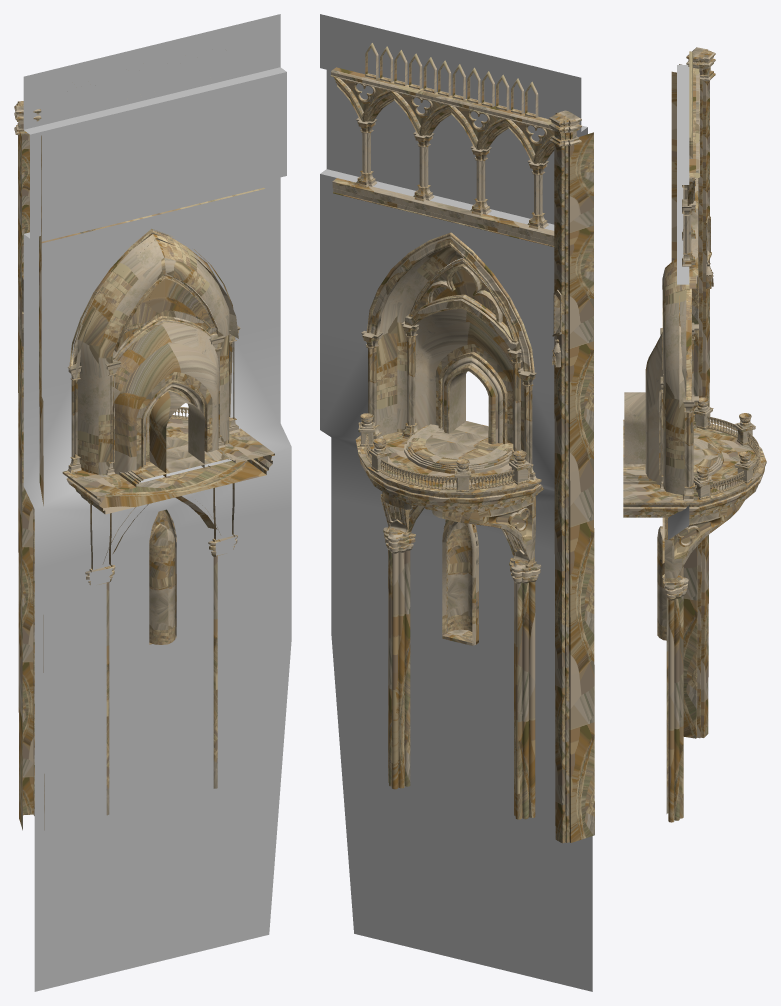
Rendered from SM_wall_04.fbx.
3 renders of one model, left to right at view 1: azimuth 30°, elevation 25°; view 2: azimuth 150°, elevation 25°; view 3: azimuth 270°, elevation 25°, orthographic. The views are drawn at different scales.
Visible parts, largest first — view 1: polySurface33664; view 2: polySurface33664; view 3: polySurface33664.
Boxes of the visible parts, left/top/right/bottom form: polySurface33664: left=14, top=14, right=291, bottom=991; polySurface33664: left=320, top=14, right=594, bottom=991; polySurface33664: left=623, top=47, right=766, bottom=822.
Size of the model in its own units: 24.81 by 81.47 by 12.17.
